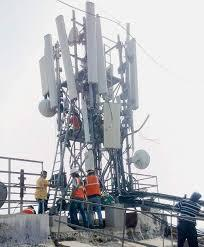Microwave Antenna: (132, 144, 154, 177), (36, 100, 58, 121)
antenna: (52, 10, 82, 104), (40, 31, 62, 108), (82, 2, 100, 87), (128, 34, 143, 113), (102, 103, 123, 153)
